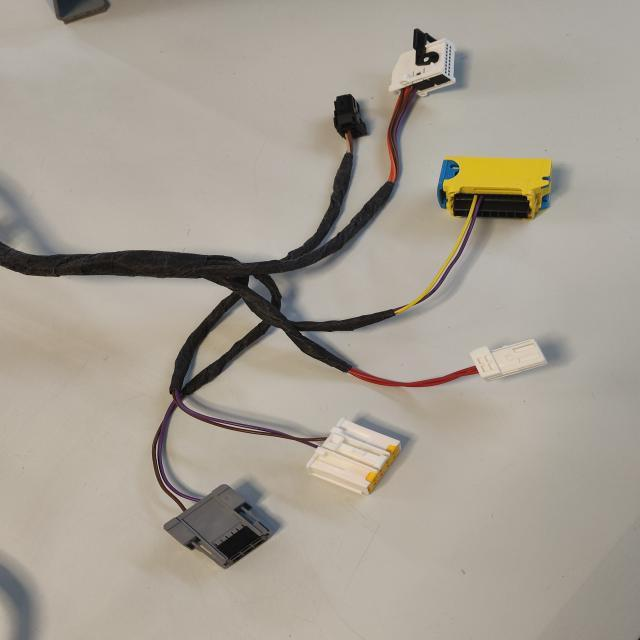connector: (162, 473, 276, 584), (304, 411, 404, 503), (436, 156, 553, 220), (384, 25, 468, 113), (469, 332, 547, 383), (325, 90, 369, 144)
